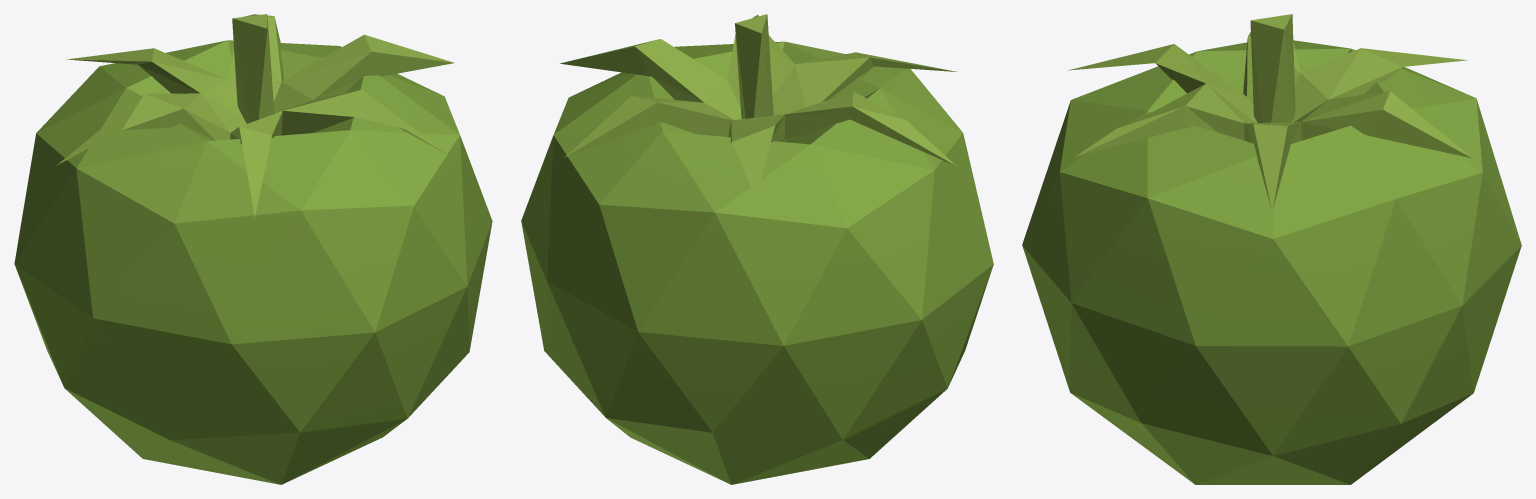
The model's file is Tomato_01.fbx.
3 renders of one model, left to right at view 1: azimuth 30°, elevation 25°; view 2: azimuth 150°, elevation 25°; view 3: azimuth 270°, elevation 25°, orthographic. The views are drawn at different scales.
Visible parts, largest first — view 1: Tomato_01; view 2: Tomato_01; view 3: Tomato_01.
Boxes of the visible parts, x1,y1,x2,y2 form: Tomato_01: [14, 14, 492, 484]; Tomato_01: [521, 14, 993, 484]; Tomato_01: [1022, 14, 1521, 484].
Bounding box in the file's own units: 0.1651 × 0.1735 × 0.173.
